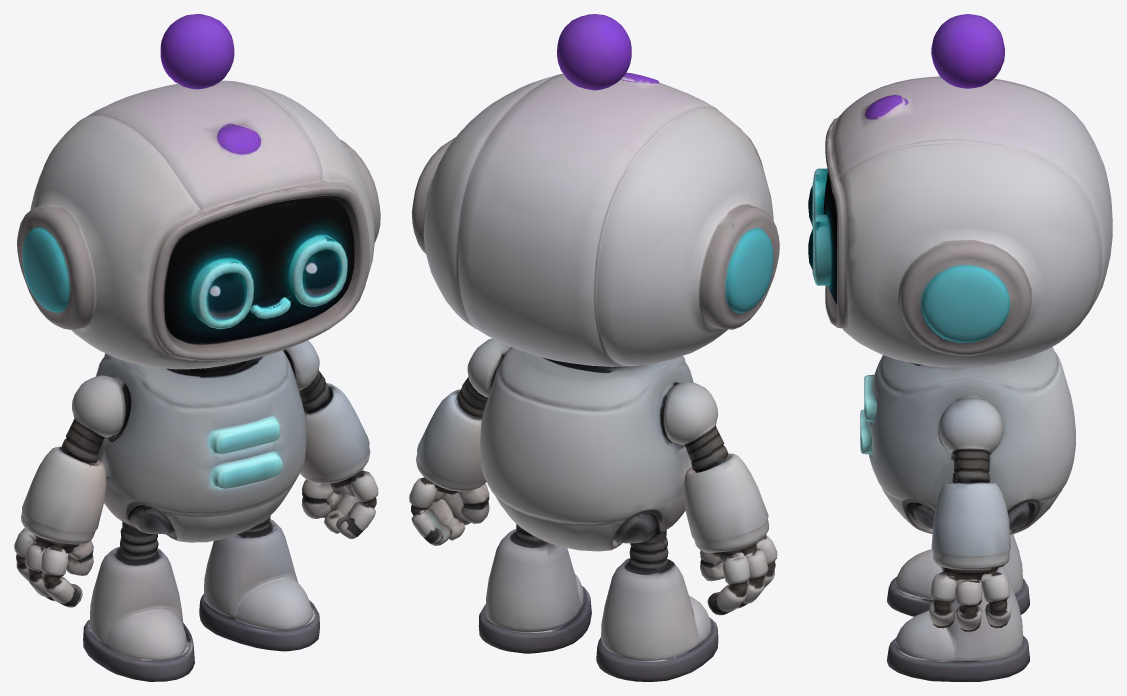
Rendered from mascot.glb.
3 renders of one model, left to right at view 1: azimuth 30°, elevation 25°; view 2: azimuth 150°, elevation 25°; view 3: azimuth 270°, elevation 25°, orthographic.
Visible parts, largest first — view 1: material; view 2: material; view 3: material.
Boxes of the visible parts, x1,y1,x2,y2 form: material: [14, 14, 380, 681]; material: [409, 14, 779, 681]; material: [808, 14, 1112, 681].
Bounding box in the file's own units: 1.09 × 1.9 × 0.8494.
Materials: 1 (1 with a texture image).
